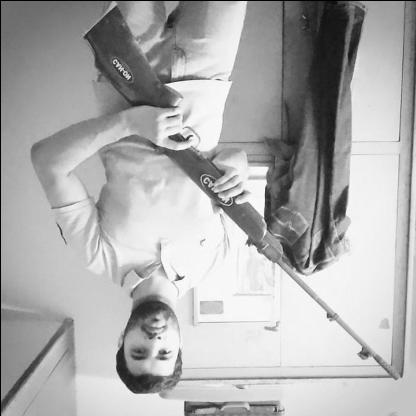rifle: (75, 0, 401, 382)
